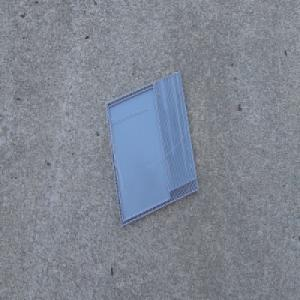PlasticPart: (104, 69, 198, 227)
